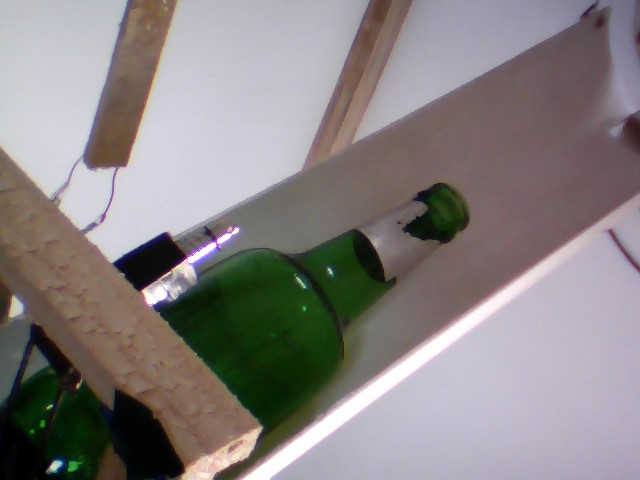vidrio: (191, 175, 478, 444)
